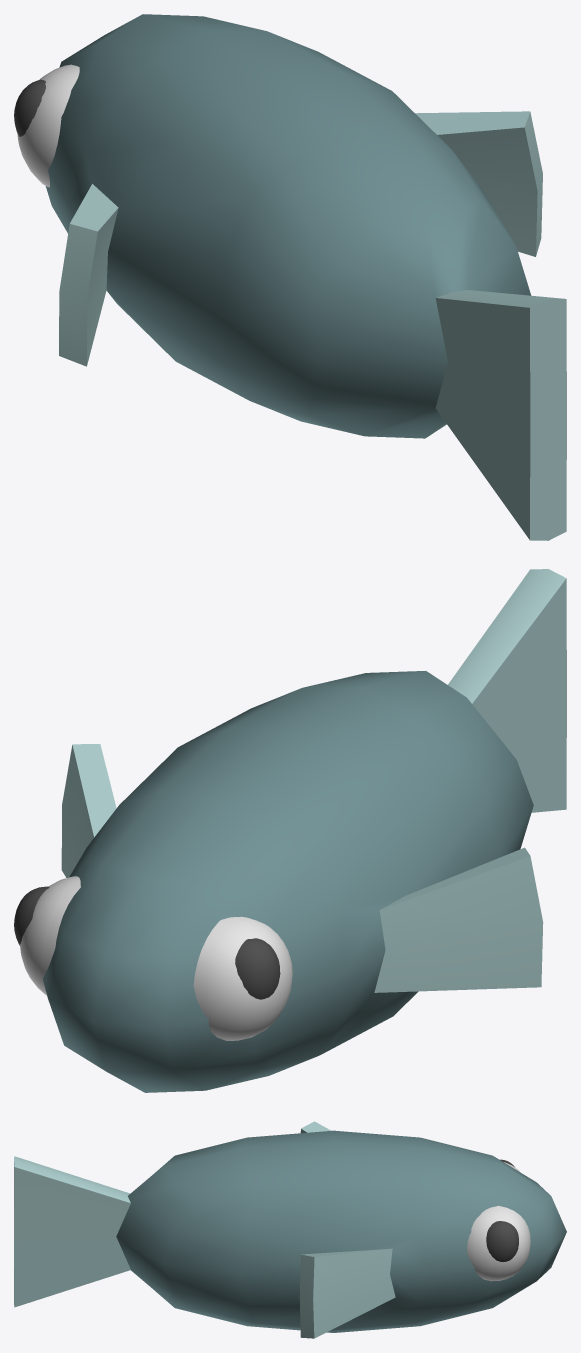
The model's file is fish2.fbx.
3 renders of one model, top to bottom at view 1: azimuth 30°, elevation 25°; view 2: azimuth 150°, elevation 25°; view 3: azimuth 270°, elevation 25°, orthographic. The views are drawn at different scales.
Visible parts, largest first — view 1: pCube1, pCube2, pCube3; view 2: pCube1, pCube2, pCube3; view 3: pCube1, pCube2, pCube3.
Part boxes in pixels (x1,y1,x2,y2): pCube1: [45, 14, 566, 540]; pCube2: [17, 64, 79, 187]; pCube3: [14, 79, 45, 136]; pCube1: [42, 569, 566, 1092]; pCube2: [20, 876, 292, 1040]; pCube3: [14, 886, 280, 999]; pCube1: [14, 1121, 566, 1338]; pCube2: [467, 1162, 530, 1281]; pCube3: [486, 1159, 518, 1261].
Size of the model in its own units: 1.14 by 0.6694 by 1.87.
